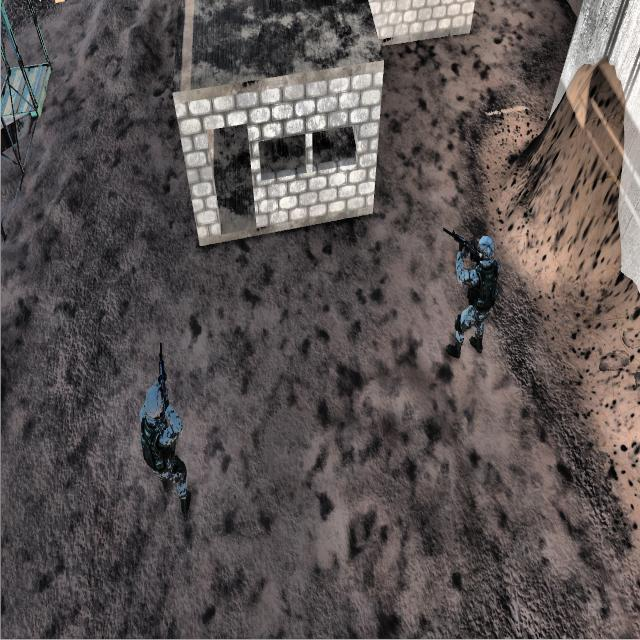bad: (125, 348, 201, 531), (445, 216, 505, 374)
